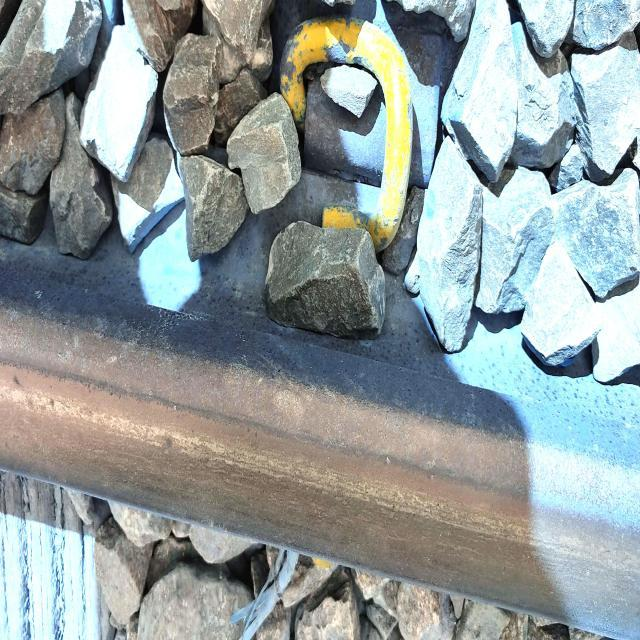Good Fasteners: (280, 18, 439, 252)
